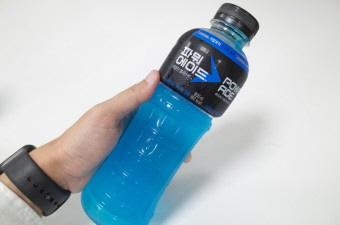powerade_mountainblast: (95, 3, 262, 224)
